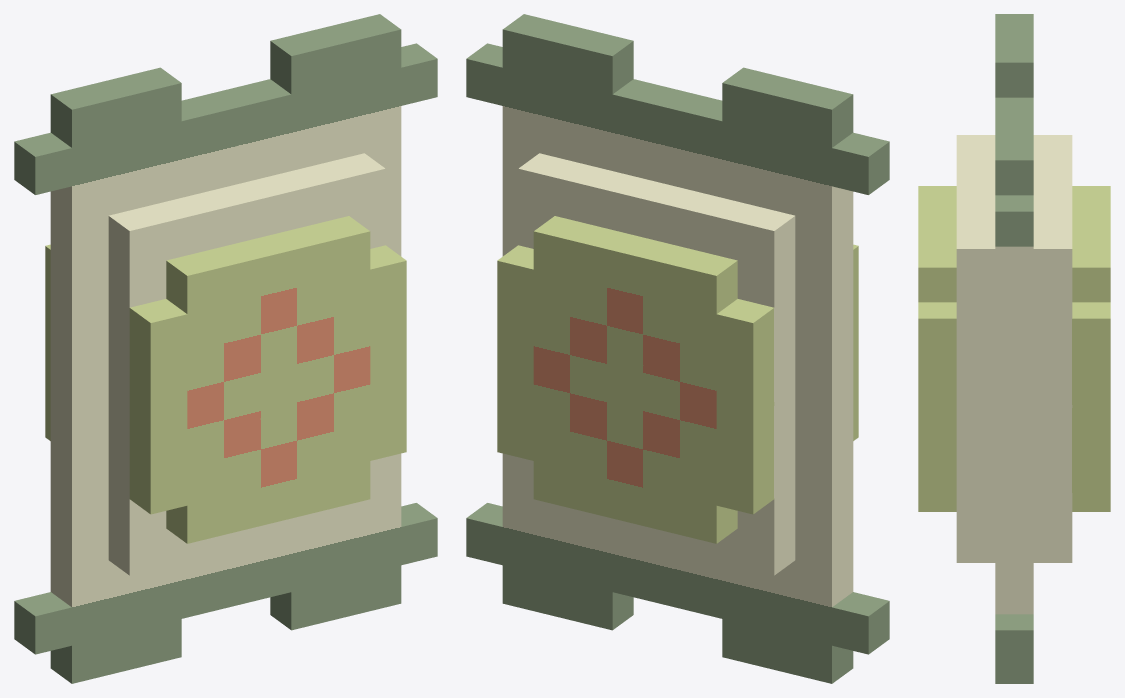
Rendered from chipsy.dae.
The picture shows the model from 3 angles, left to right: view 1: azimuth 30°, elevation 25°; view 2: azimuth 150°, elevation 25°; view 3: azimuth 270°, elevation 25°; orthographic projection. The views are drawn at different scales.
Visible parts, largest first — view 1: chipsy; view 2: chipsy; view 3: chipsy.
Boxes of the visible parts, bbox=[...] form: chipsy: bbox=[14, 14, 437, 683]; chipsy: bbox=[466, 14, 889, 683]; chipsy: bbox=[918, 14, 1110, 683].
Size of the model in its own units: 11 by 15 by 5.
Materials: 1 (1 with a texture image).
